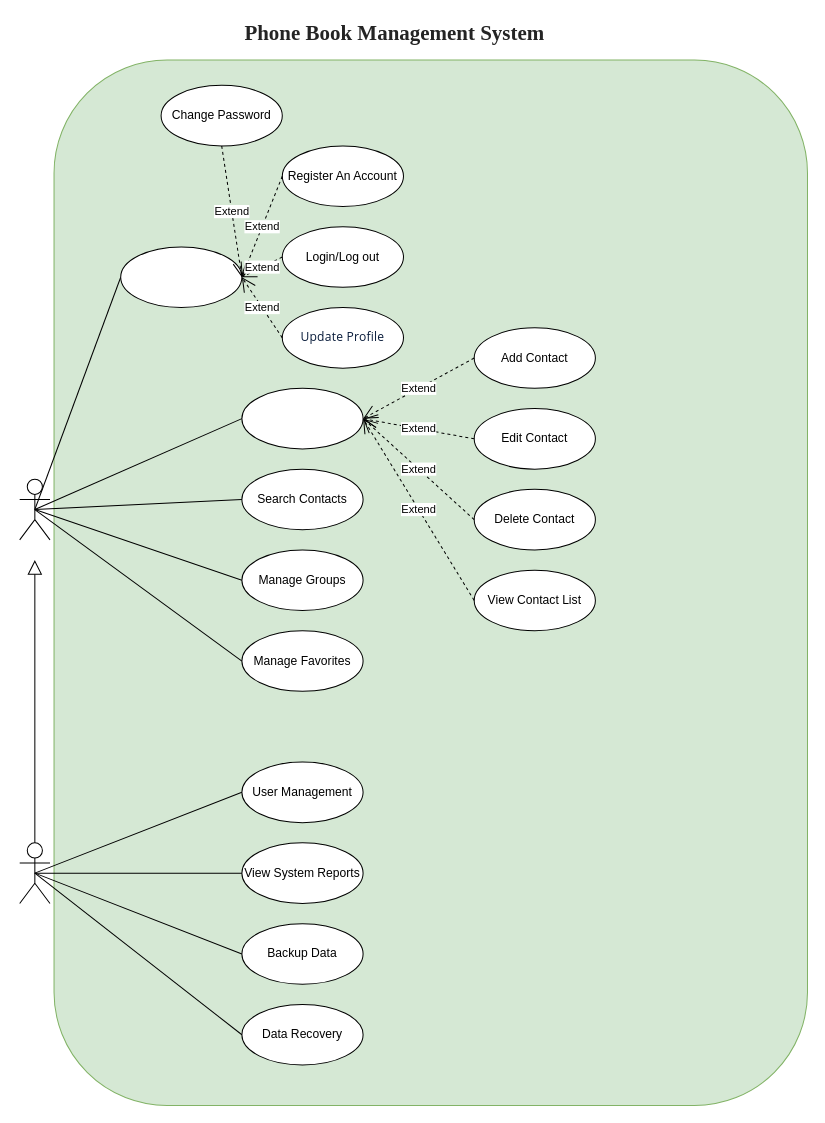
Some shapes in this 825 by 1123 pixel diagram are drawn without their labels. Each missing label, with the centre of its shape:
"Admin" goes at point (34, 872).
"Contacts Management" goes at point (302, 418).
"Manage User Account" goes at point (181, 277).
"User" goes at point (34, 509).
